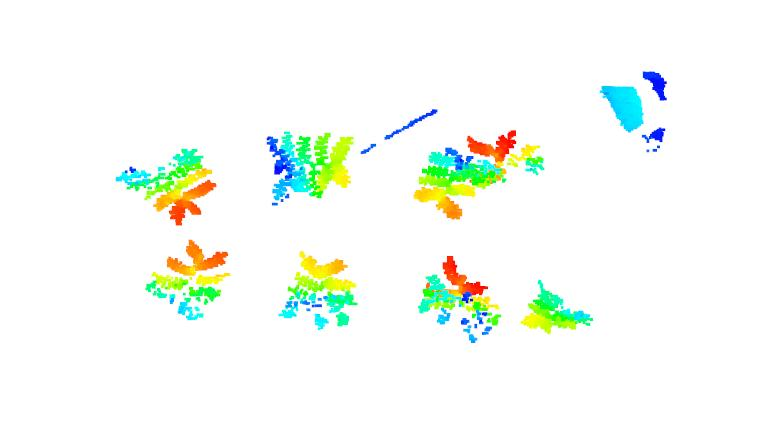chickpea: (115, 146, 216, 225), (416, 254, 503, 345), (145, 239, 229, 323), (264, 132, 356, 208), (279, 254, 355, 332), (466, 129, 547, 185), (413, 146, 474, 219), (522, 279, 592, 336)
